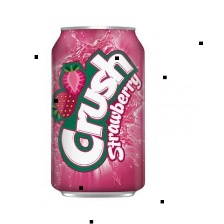can: (43, 12, 156, 205)
